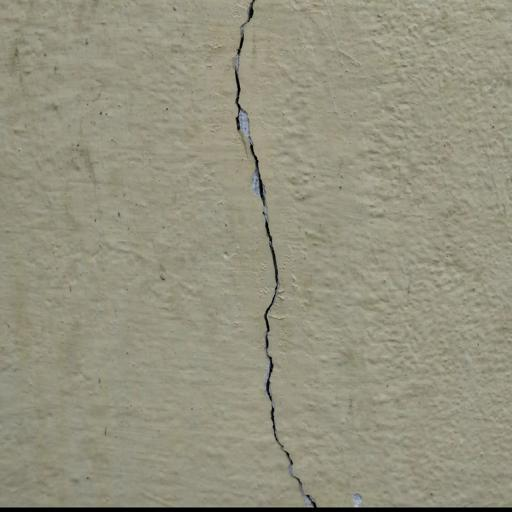major_crack: (226, 0, 321, 509)
